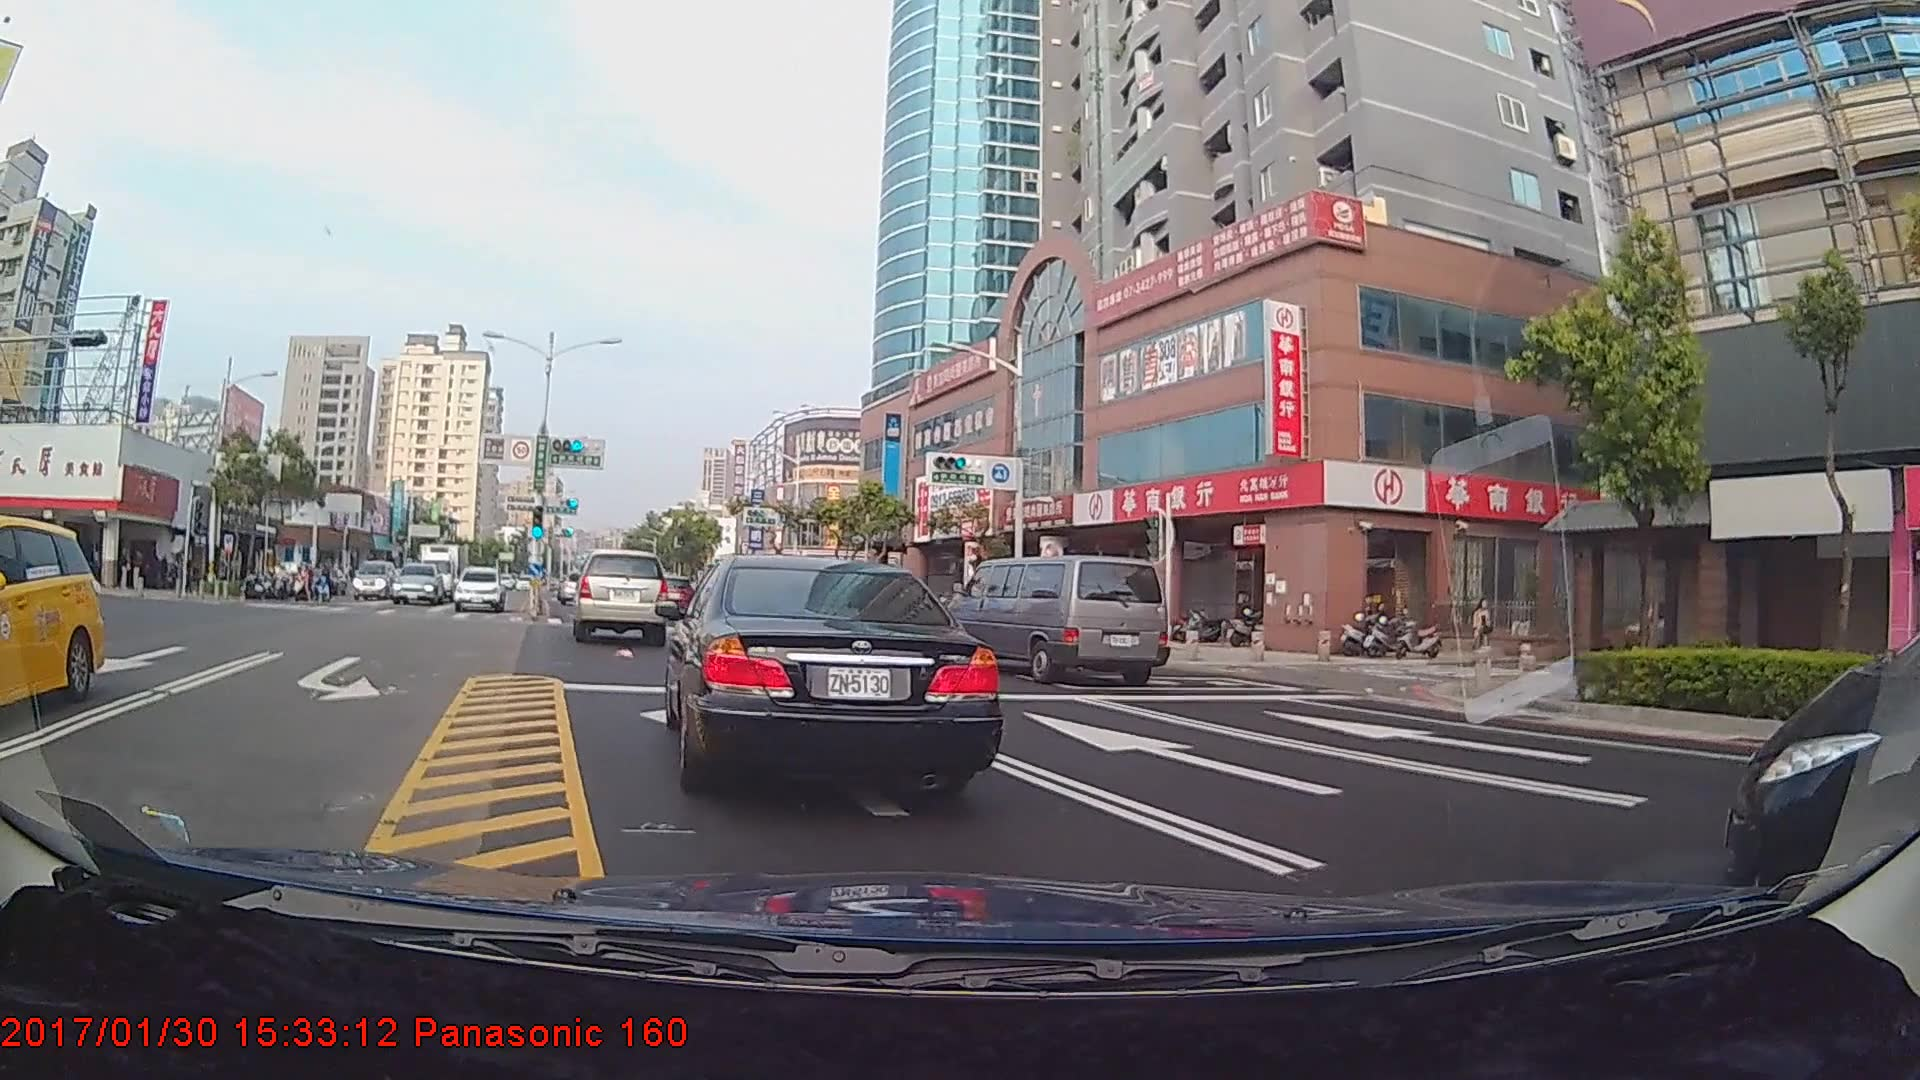pedestrian: (1473, 597, 1495, 661)
vehicle: (665, 549, 994, 795), (1742, 652, 1916, 883), (953, 553, 1164, 686), (0, 515, 103, 722), (573, 551, 666, 640), (419, 539, 473, 599), (454, 565, 505, 613), (390, 562, 445, 606), (352, 558, 400, 602)
